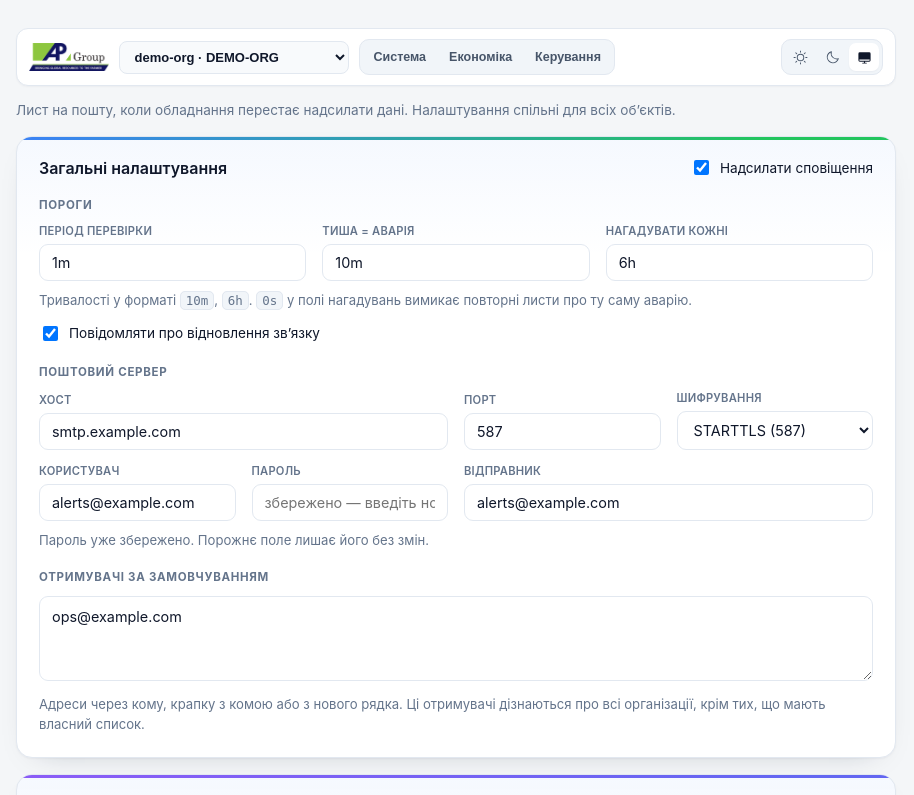
Test: AlertsPage › blocks the test email until the edits are saved
Replace the text in the text box named "Отримувачі за замовчуванням" with "new@example.com" at (456, 639), box [39,596,873,681]
(page scrolled)
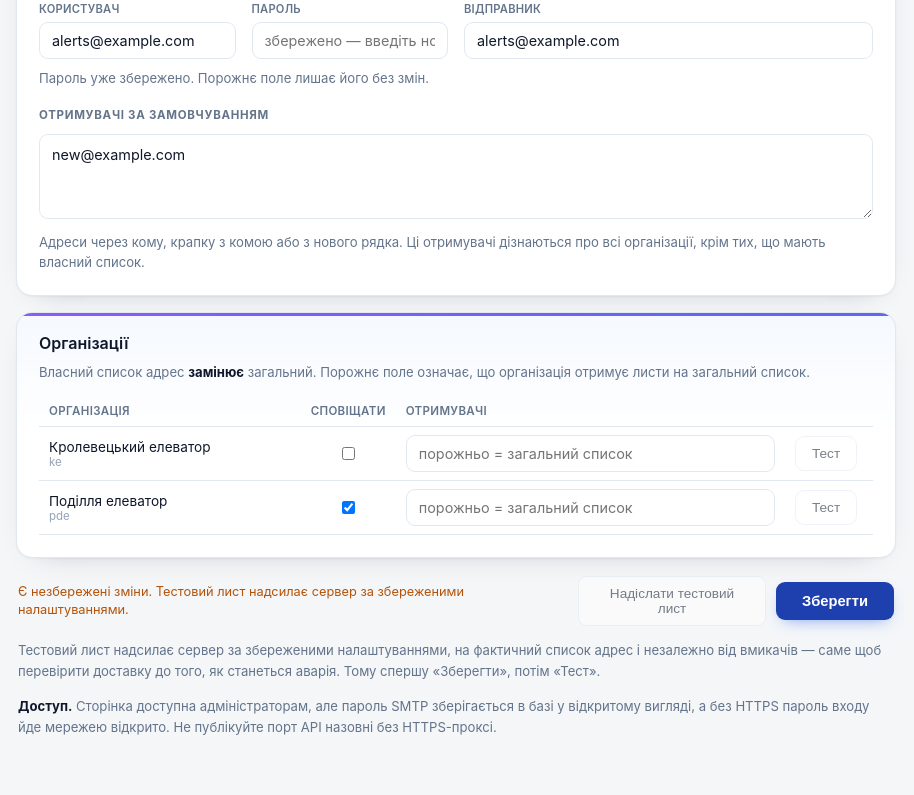
Now the button "Надіслати тестовий лист" is disabled, box [578,576,766,626]
Now the text "Є незбережені зміни" is shown, box [18,584,464,617]
Click the button "Зберегти" at (835, 601), box [776,582,894,620]
(page scrolled)
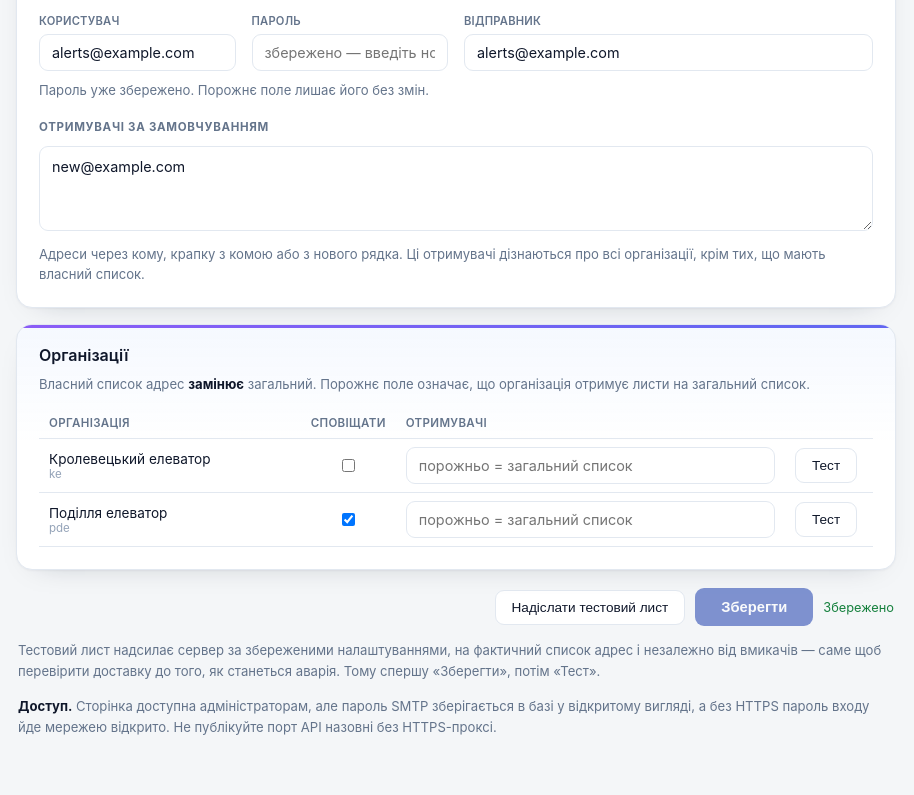
Now the button "Надіслати тестовий лист" is enabled, box [494,590,685,625]
